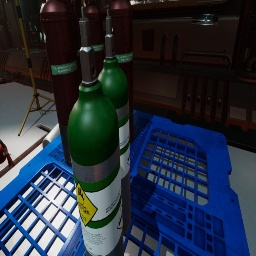0: (67, 6, 124, 256), (98, 9, 131, 236), (42, 123, 60, 149)
EmergencyPhone ,: (6, 19, 11, 31)
FireExtinguisher ]: (0, 139, 15, 168)
NitrogenTank ,: (40, 0, 81, 167), (107, 0, 134, 144), (85, 0, 105, 78), (66, 0, 82, 84)
